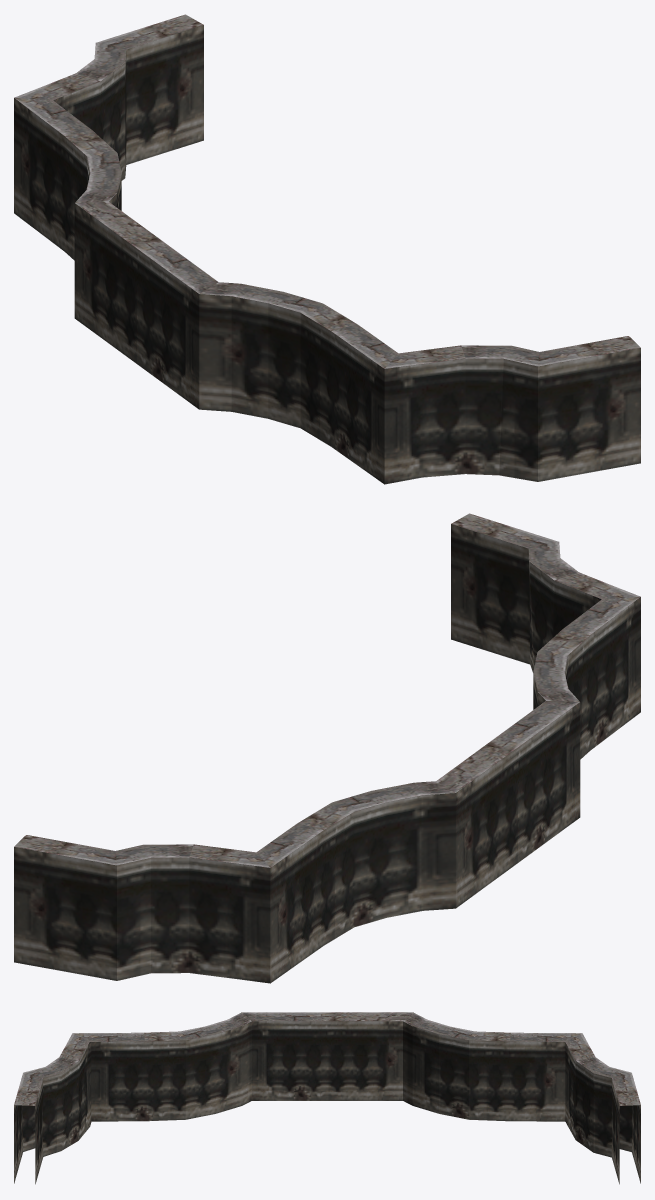
Rendered from Balcony.fbx.
3 renders of one model, top to bottom at view 1: azimuth 30°, elevation 25°; view 2: azimuth 150°, elevation 25°; view 3: azimuth 270°, elevation 25°, orthographic. The views are drawn at different scales.
Visible parts, largest first — view 1: m_banka_259; view 2: m_banka_259; view 3: m_banka_259.
Boxes of the visible parts, bbox=[...] form: m_banka_259: bbox=[14, 14, 640, 484]; m_banka_259: bbox=[14, 513, 640, 983]; m_banka_259: bbox=[14, 1012, 640, 1184].
Size of the model in its own units: 208 by 82.15 by 587.
